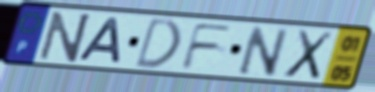A: (76, 16, 123, 66)
D: (132, 16, 184, 70)
F: (178, 22, 236, 72)
N: (36, 10, 94, 64), (236, 24, 291, 78)
X: (280, 28, 337, 82)
